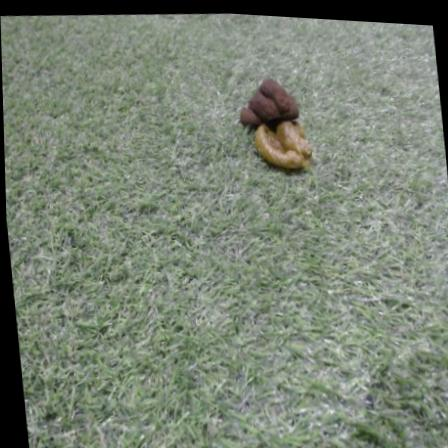dog-poop: (232, 67, 315, 174)
